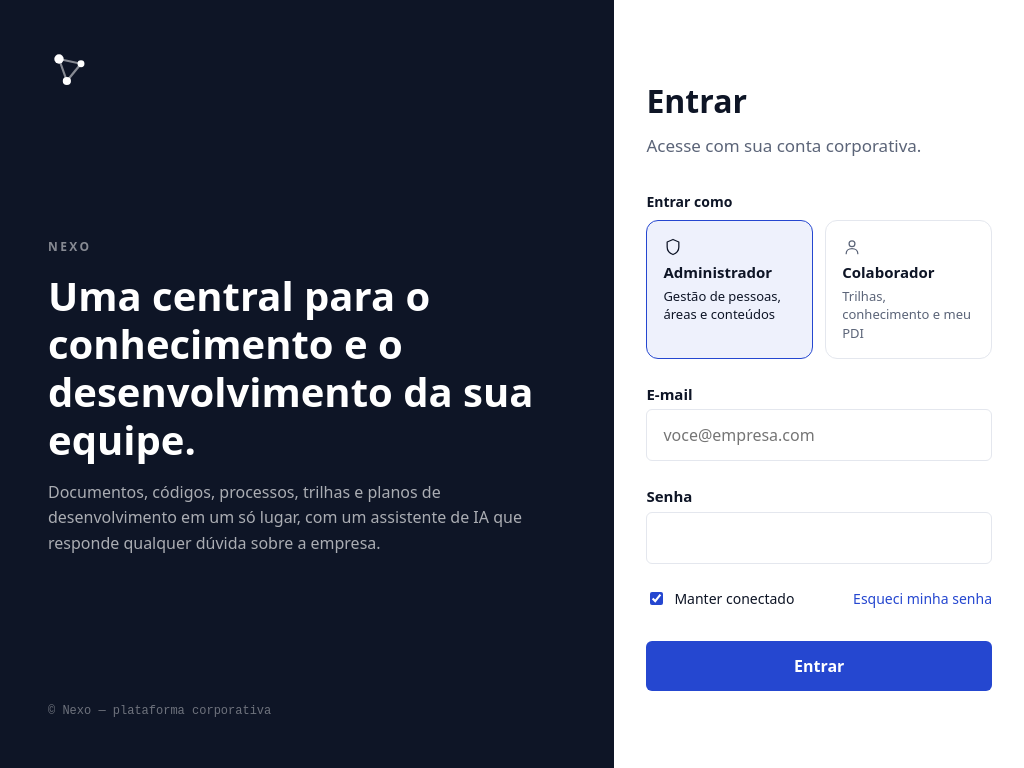
Esqueci minha senha › o login leva à tela de esqueci minha senha
Click the link "Esqueci minha senha": {"x": 923, "y": 598} [853, 588, 992, 609]
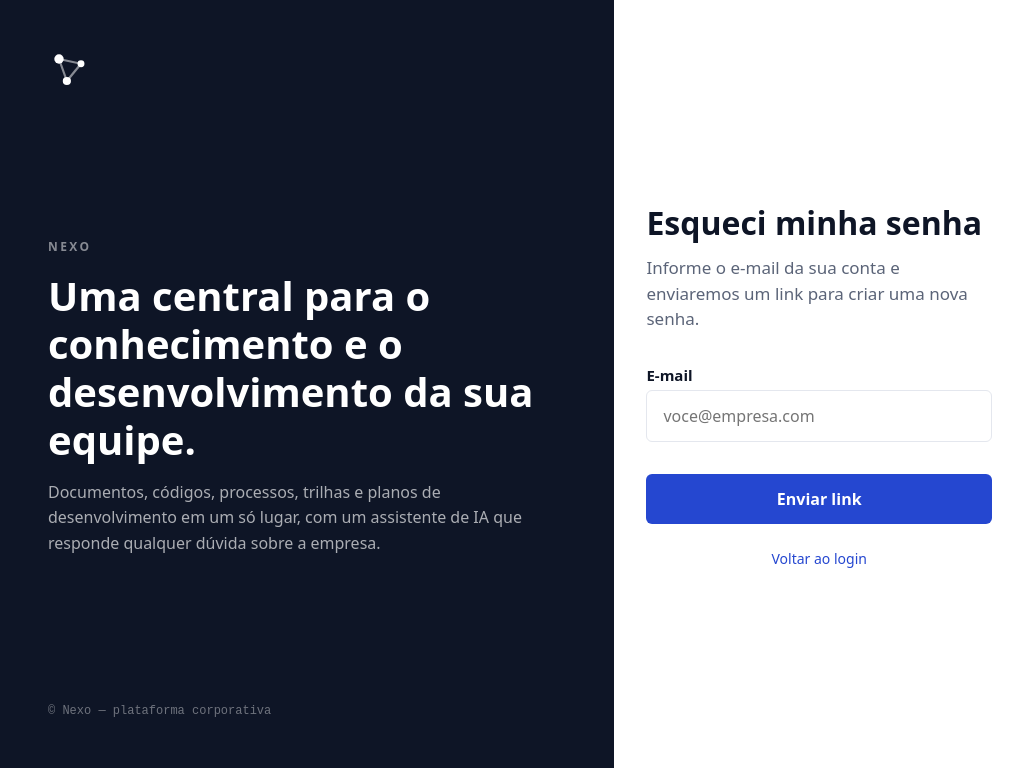
Check: the heading "Esqueci minha senha" is shown, box [646, 199, 992, 247]
